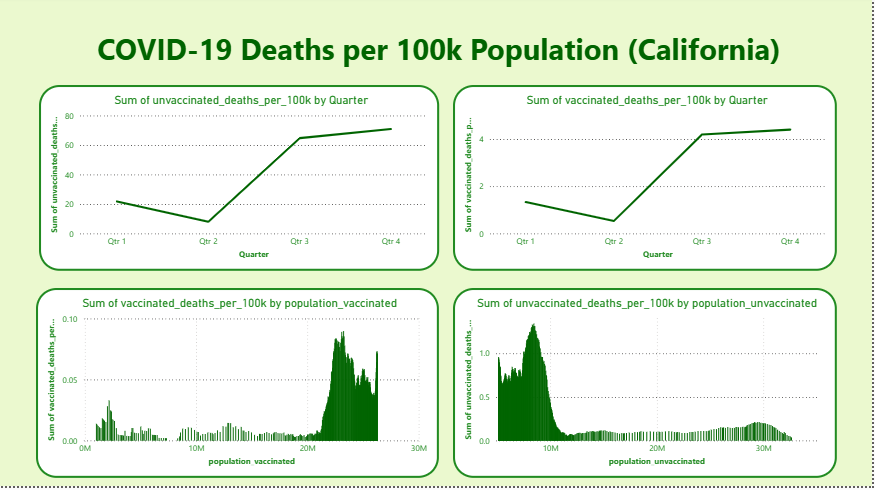

Layout of this report page (visuals, bound fields, positions):
{"tool":"powerbi","page":{"name":"Page 3","canvas":[1280,720],"ordinal":2},"visuals":[{"type":"textbox","box":[10.3,42.6,1269.6,70.5],"z":0},{"type":"lineChart","fields":{"Category":["COVID_19_cleaned.date.Variation.Date Hierarchy.Quarter"],"Y":["Sum(COVID_19_cleaned.unvaccinated_deaths_per_100k)"]},"box":[57.3,130.8,587.8,273.3],"z":1000},{"type":"lineChart","fields":{"Category":["COVID_19_cleaned.date.Variation.Date Hierarchy.Quarter"],"Y":["Sum(COVID_19_cleaned.vaccinated_deaths_per_100k)"]},"box":[665.6,130.8,564.2,273.3],"z":2000},{"type":"lineStackedColumnComboChart","fields":{"Category":["COVID_19_cleaned.population_vaccinated"],"Y":["Sum(COVID_19_cleaned.vaccinated_deaths_per_100k)"]},"box":[52.9,429.1,592.2,279.2],"z":3000},{"type":"lineStackedColumnComboChart","fields":{"Y":["Sum(COVID_19_cleaned.unvaccinated_deaths_per_100k)"],"Category":["COVID_19_cleaned.population_unvaccinated"]},"box":[665.6,429.1,564.2,279.2],"z":4000}]}

Visuals, with their boxes in screenshot pixels (x1, y1, x2, y2), scaled from the page's 1280x720 canvas onto the 875x490 screenshot:
textbox: bbox=(7, 29, 874, 77)
lineChart - COVID_19_cleaned.date.Variation.Date Hierarchy.Quarter x Sum(COVID_19_cleaned.unvaccinated_deaths_per_100k): bbox=(39, 89, 441, 275)
lineChart - COVID_19_cleaned.date.Variation.Date Hierarchy.Quarter x Sum(COVID_19_cleaned.vaccinated_deaths_per_100k): bbox=(455, 89, 841, 275)
lineStackedColumnComboChart - COVID_19_cleaned.population_vaccinated x Sum(COVID_19_cleaned.vaccinated_deaths_per_100k): bbox=(36, 292, 441, 482)
lineStackedColumnComboChart - Sum(COVID_19_cleaned.unvaccinated_deaths_per_100k) x COVID_19_cleaned.population_unvaccinated: bbox=(455, 292, 841, 482)
